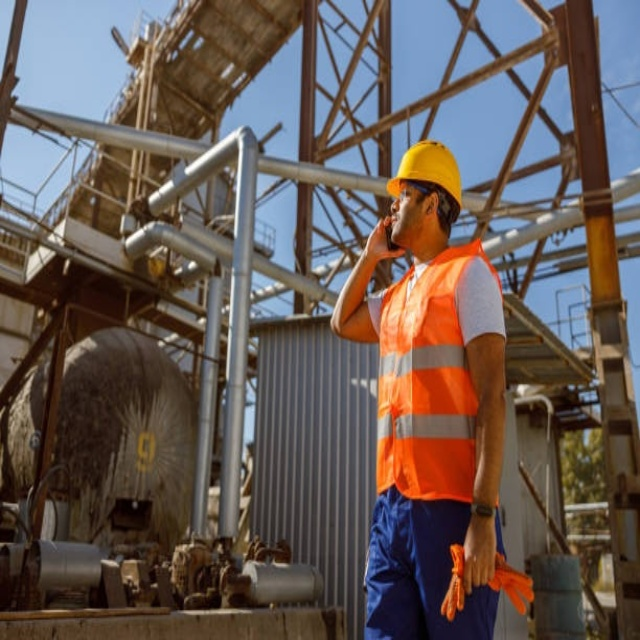Gafas: (393, 180, 429, 201)
Sin_guantes: (460, 512, 498, 591), (360, 216, 395, 260)
Sin_mascara: (390, 205, 405, 242)
